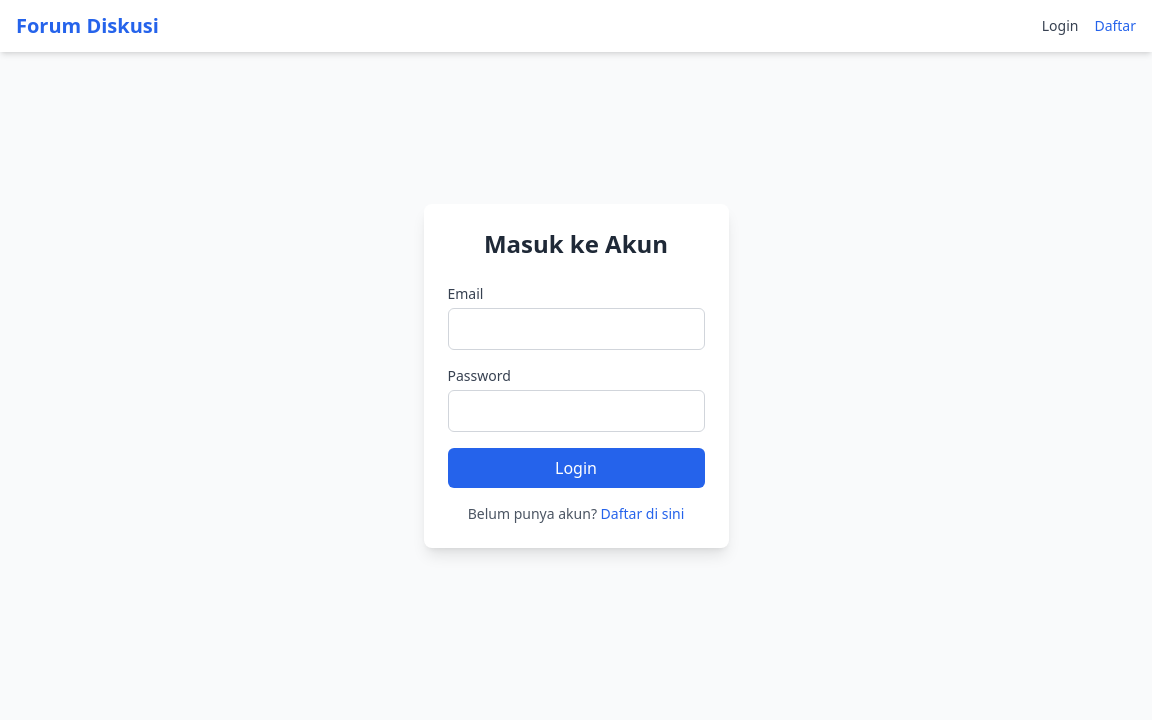
Test: Login Flow › should redirect to register page when clicking register link
This screenshot has width=1152, height=720.
Click the link "Daftar di sini".
click(643, 514)  # box [601, 504, 685, 523]
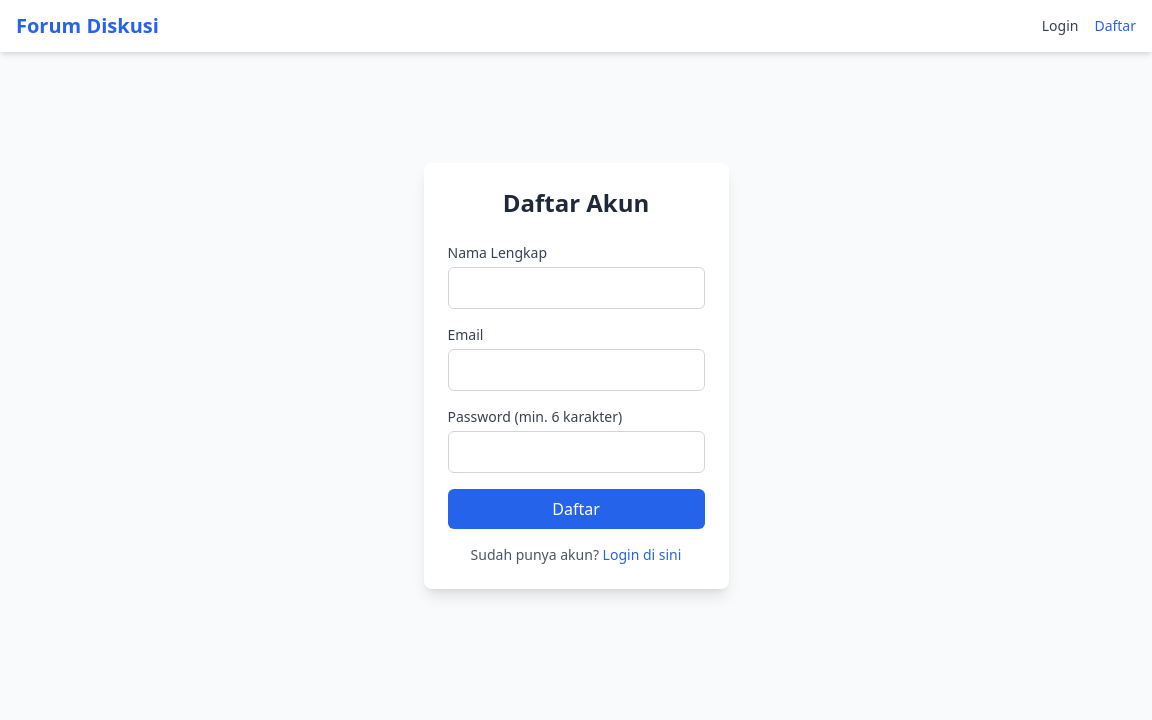
Result: the heading "Daftar Akun" is shown at [503, 186, 649, 219]
